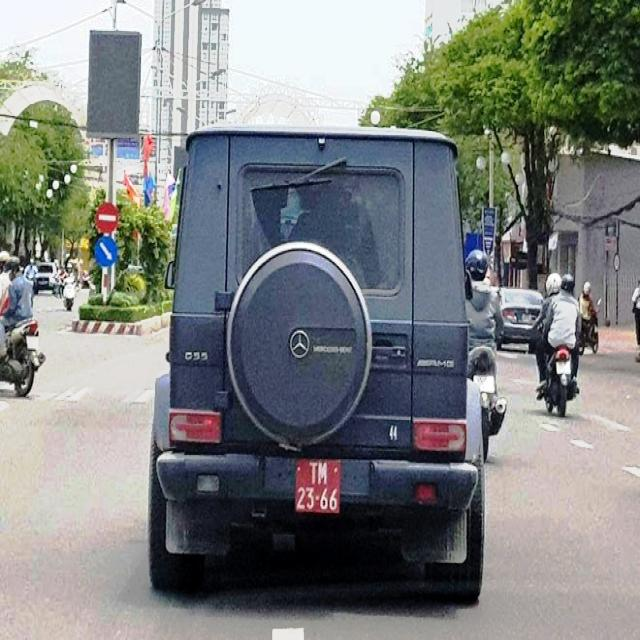license_plate: (294, 460, 341, 515)
